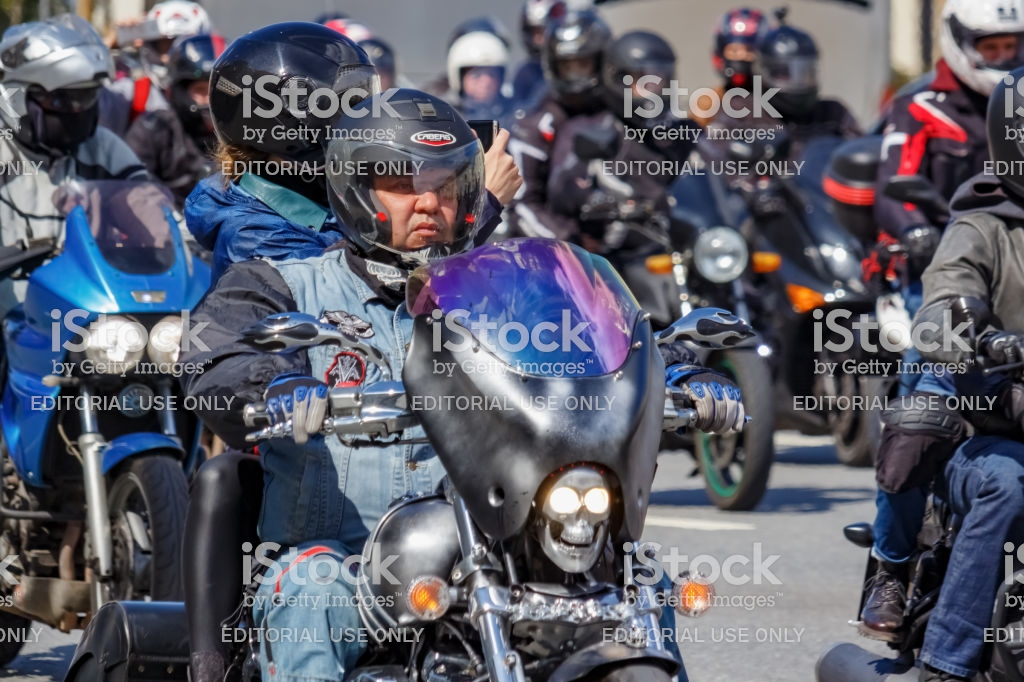helmet: (324, 94, 499, 250), (196, 17, 375, 159)
